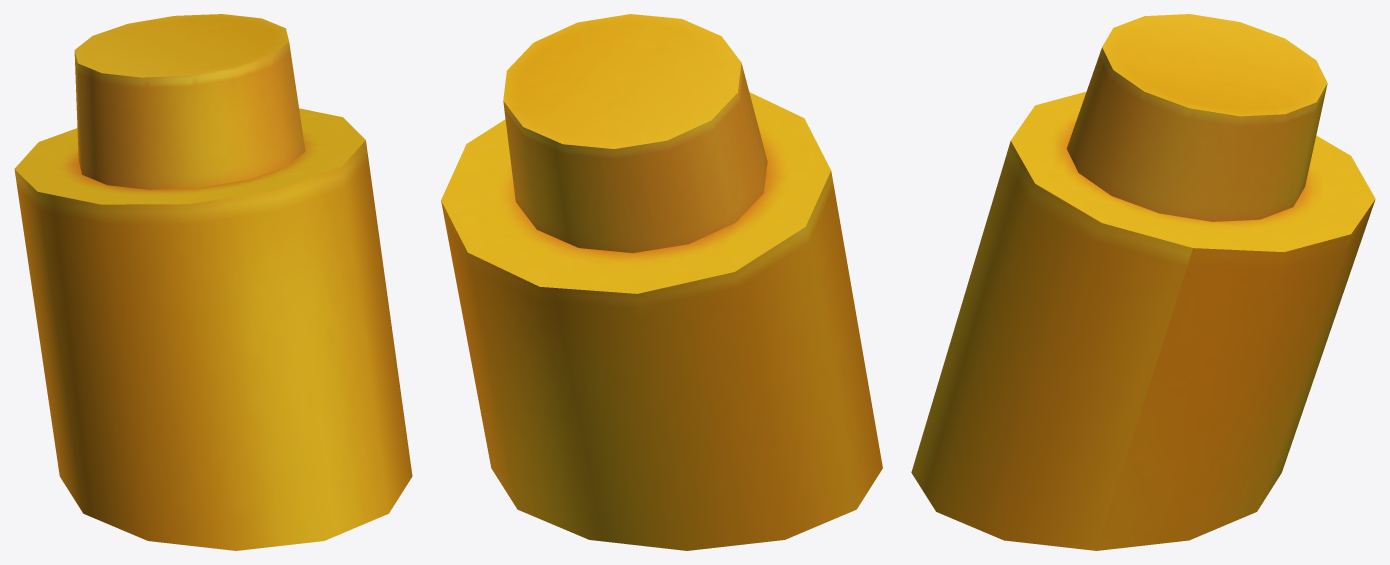
The model's file is zhishengji05.FBX.
3 renders of one model, left to right at view 1: azimuth 30°, elevation 25°; view 2: azimuth 150°, elevation 25°; view 3: azimuth 270°, elevation 25°, orthographic. The views are drawn at different scales.
Parts seen in each view (by area): view 1: zhishengji05; view 2: zhishengji05; view 3: zhishengji05.
Part boxes in pixels (x1,y1,x2,y2): zhishengji05: (14, 14, 412, 550); zhishengji05: (441, 14, 882, 550); zhishengji05: (911, 14, 1375, 550).
Bounding box in the file's own units: 6.74 × 8.56 × 8.44.
